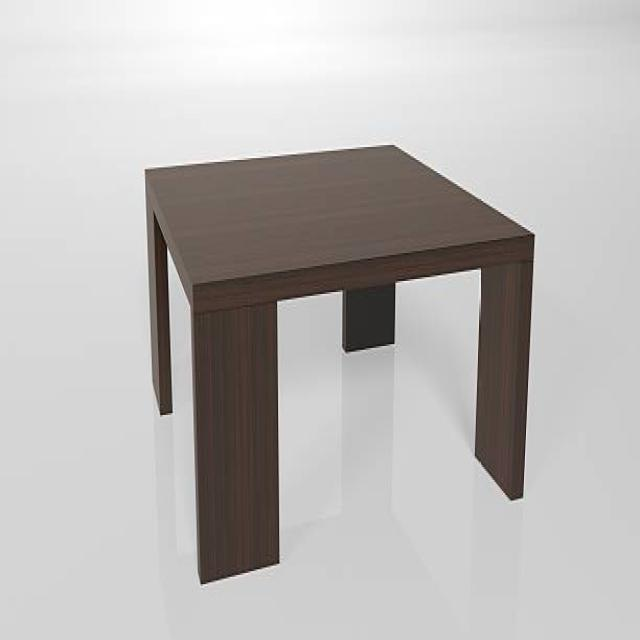table: (144, 142, 536, 584)
